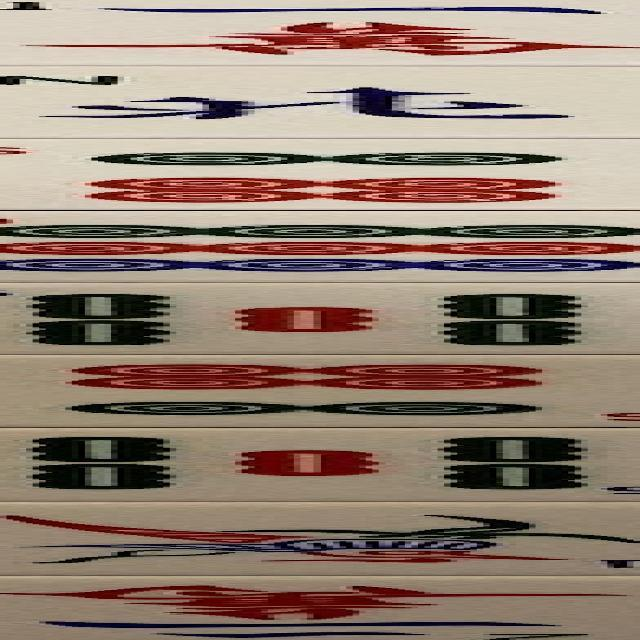hwn: (0, 68, 640, 138)
sb1: (0, 502, 640, 574)
sb5: (0, 283, 640, 353), (0, 430, 640, 500)
sc1: (0, 0, 640, 64)
sc2: (0, 576, 640, 640)
sd6: (0, 354, 640, 427), (0, 138, 640, 210)
sd9: (0, 210, 640, 281)
